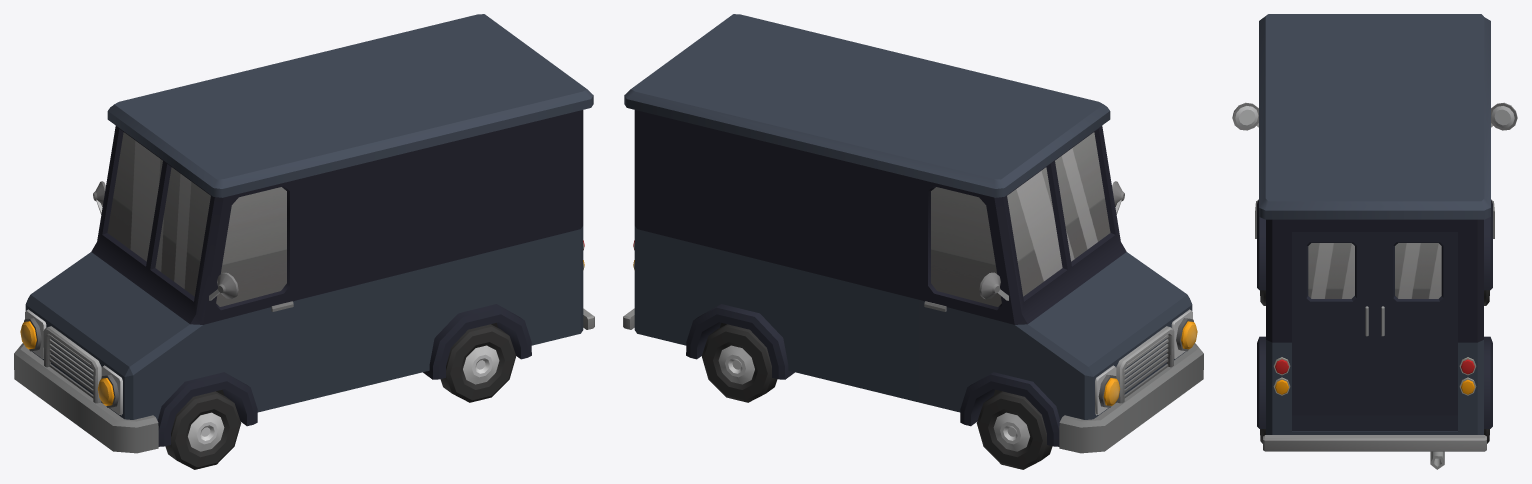
Rendered from Car_16_F.gltf.
3 views of the same model, side by side, from view 1: azimuth 30°, elevation 25°; view 2: azimuth 150°, elevation 25°; view 3: azimuth 270°, elevation 25° (orthographic). The views are drawn at different scales.
Visible parts, largest first — view 1: Car_16_F, RL, FL; view 2: Car_16_F, RR, FR; view 3: Car_16_F.
Boxes of the visible parts, <box> form: Car_16_F: <box>14,14,594,453</box>; RL: <box>440,324,516,402</box>; FL: <box>165,391,241,469</box>; Car_16_F: <box>623,14,1203,453</box>; RR: <box>701,324,777,402</box>; FR: <box>976,391,1052,469</box>; Car_16_F: <box>1232,14,1517,469</box>.
Size of the model in its own units: 3.66 by 2.04 by 1.8.
4 materials, 4 textured.
